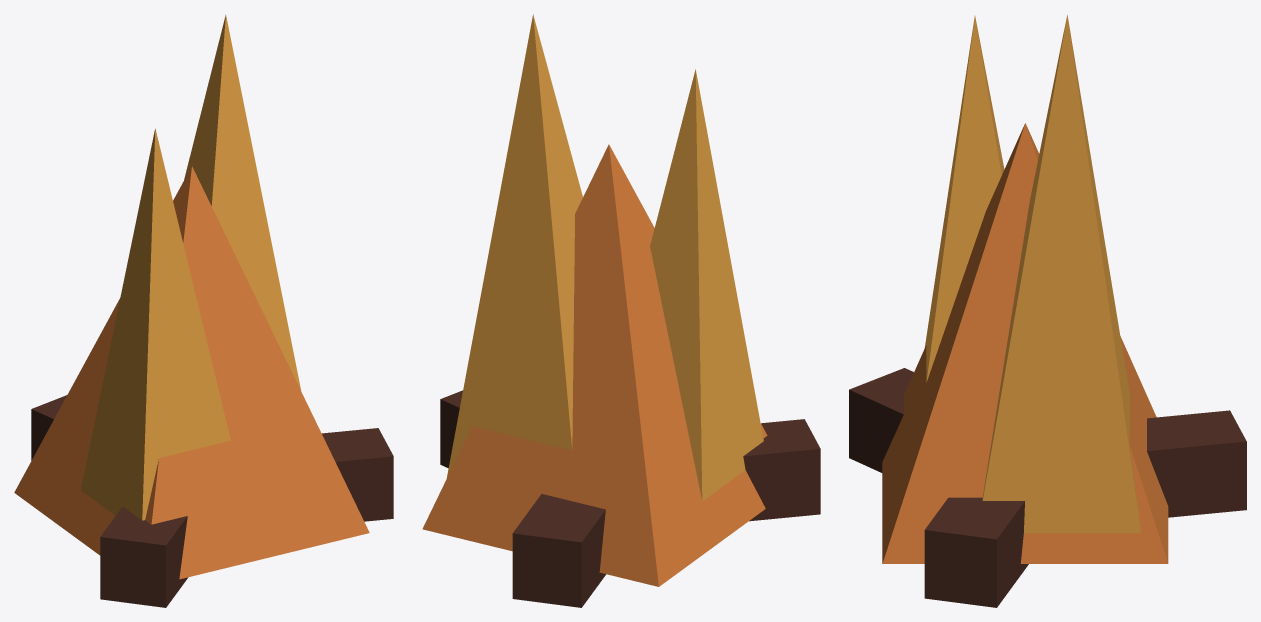
The model's file is flame.glb.
The picture shows the model from 3 angles, left to right: view 1: azimuth 30°, elevation 25°; view 2: azimuth 150°, elevation 25°; view 3: azimuth 270°, elevation 25°; orthographic projection. The views are drawn at different scales.
Parts seen in each view (by area): view 1: Flame; view 2: Flame; view 3: Flame.
Boxes of the visible parts, bbox=[...] form: Flame: bbox=[14, 14, 393, 607]; Flame: bbox=[422, 14, 820, 607]; Flame: bbox=[849, 15, 1246, 607].
Bounding box in the file's own units: 0.4865 × 0.7 × 0.4766.
